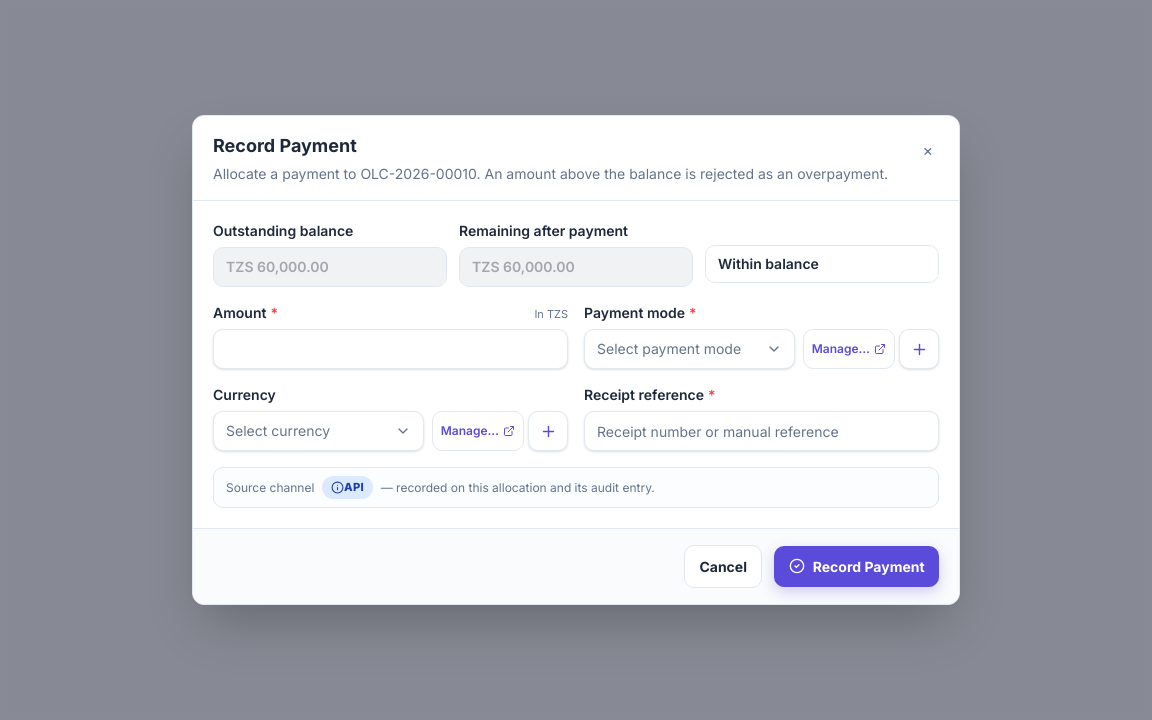
RecordPaymentModal › requires an exchange rate for a cross-currency payment
Click the button labelled "Select currency".
click(318, 431)  # box [213,411,424,451]
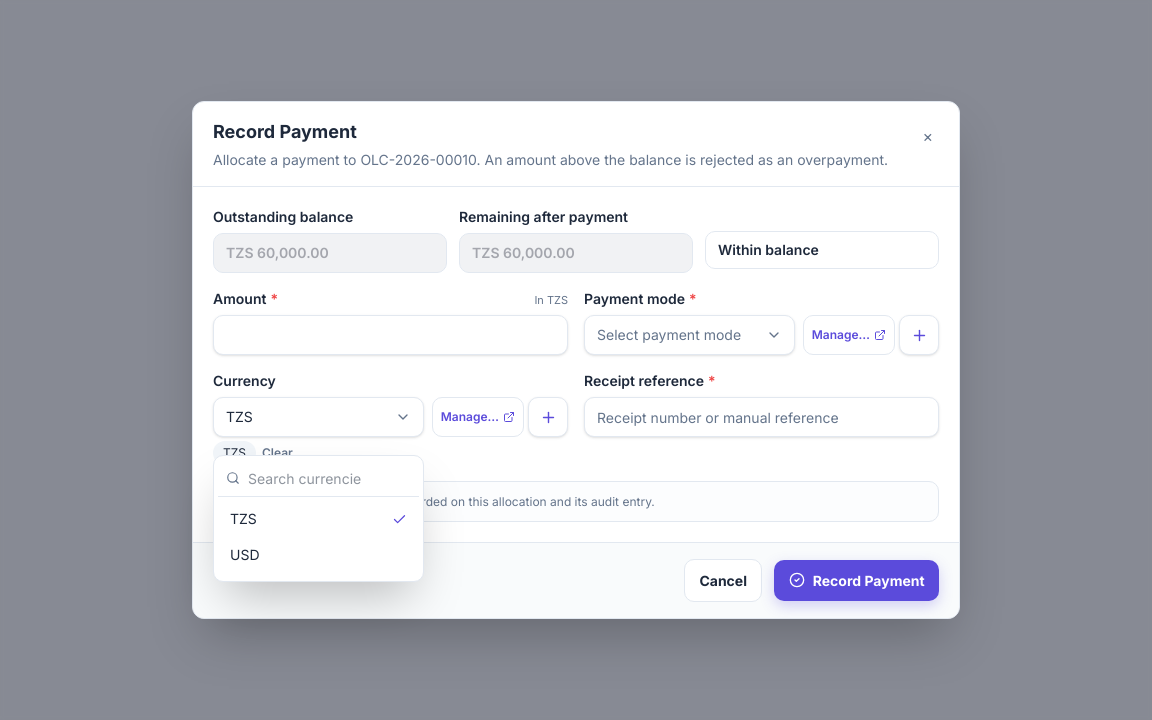
Click the option "USD".
click(318, 555)  # box [218,537,419,573]
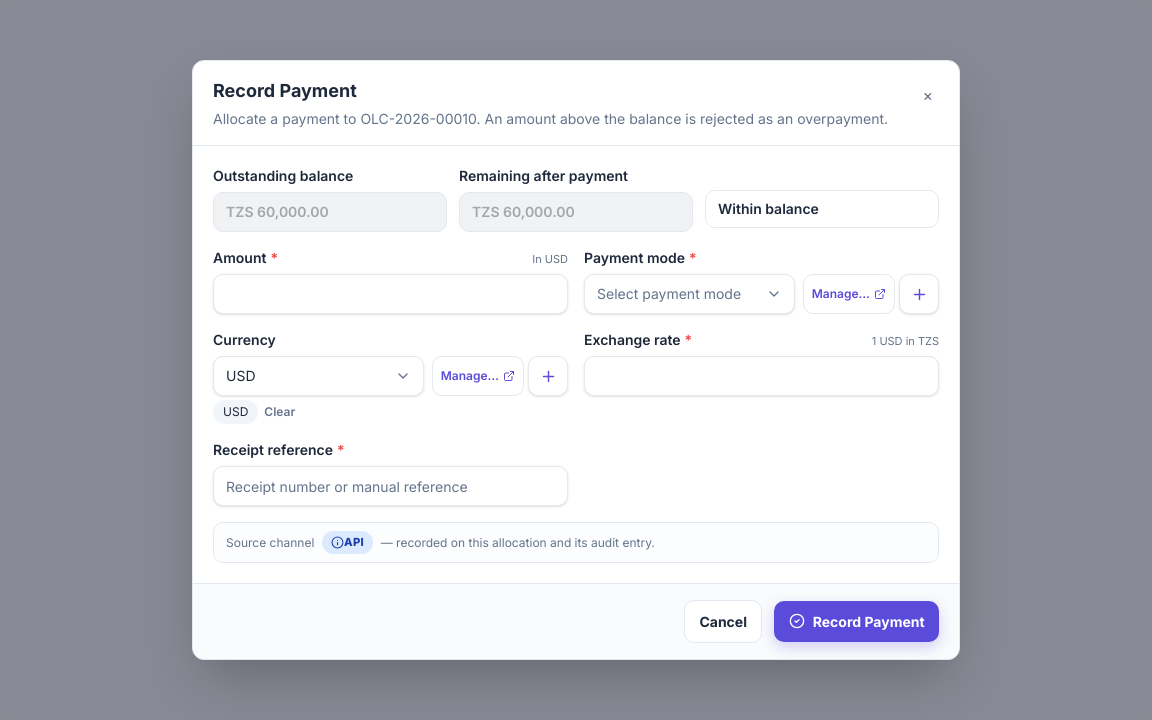
Now the number field with test id "exchange-rate-field" is shown, box [584,356,939,396]
Type "10000" into the number field labelled "Amount*".
click(390, 294); type("10000")  # box [213,274,568,314]
Type "RCT-2026-999" into the field labelled "Receipt reference*".
click(390, 486); type("RCT-2026-999")  # box [213,466,568,506]
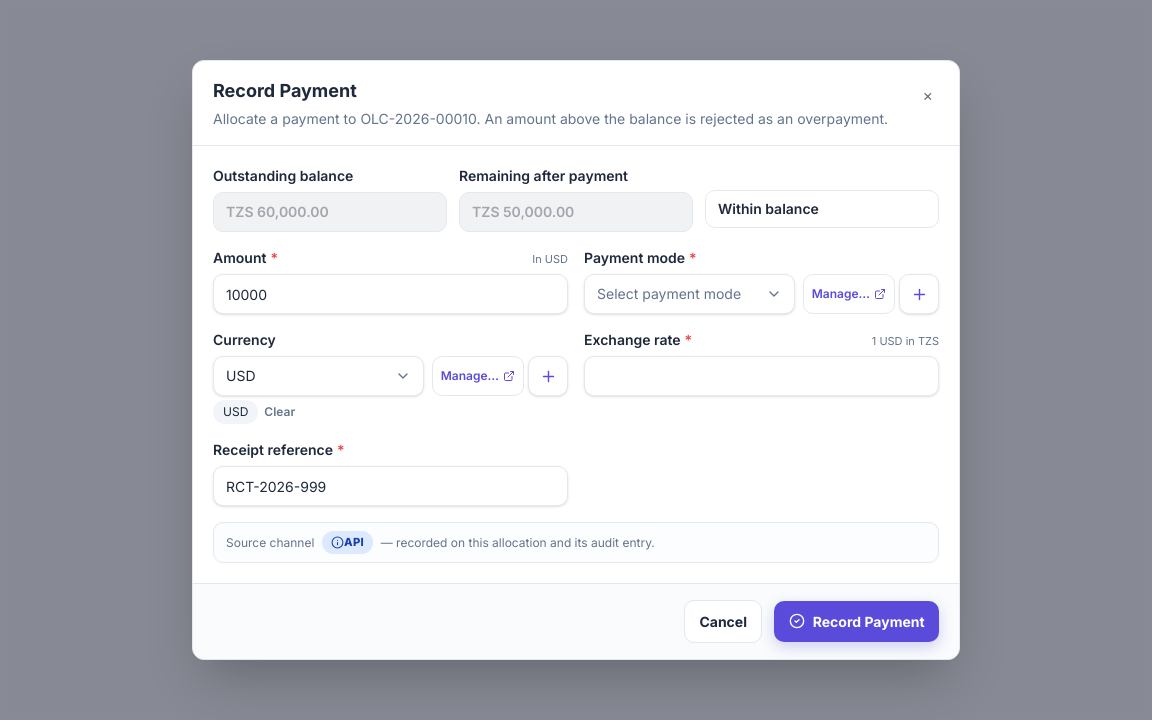
Click the button labelled "Select payment mode".
click(689, 294)  # box [584,274,795,314]
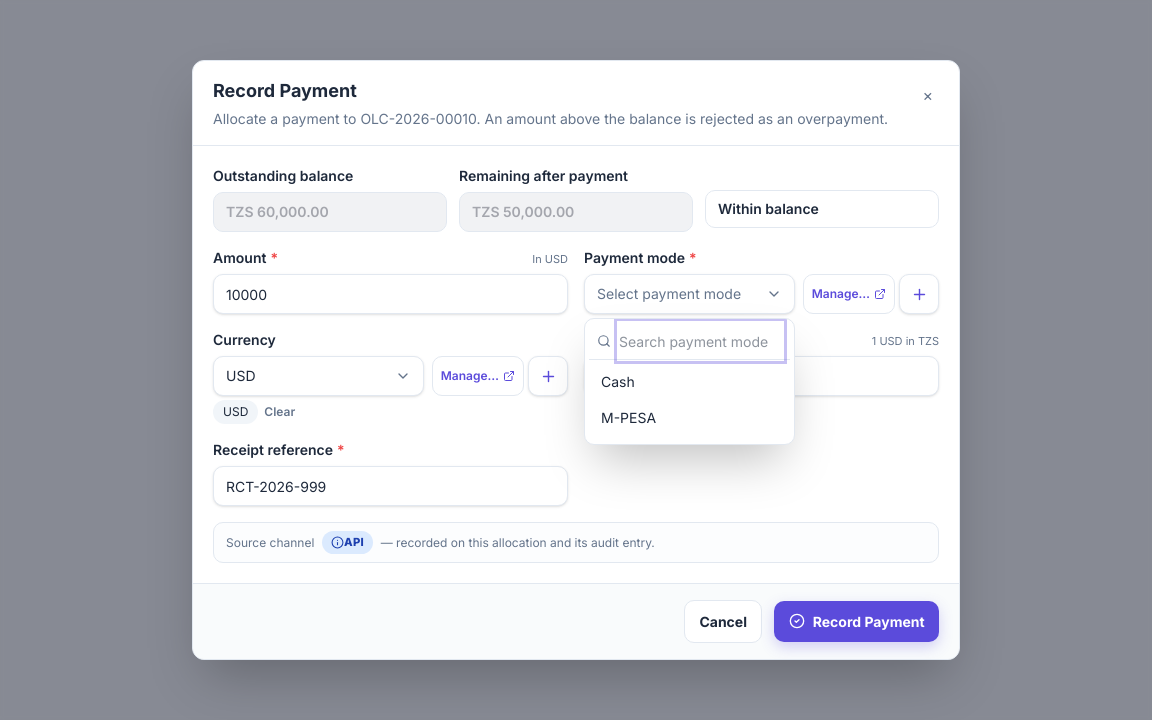
Click the option "Cash".
click(689, 382)  # box [589,364,790,400]
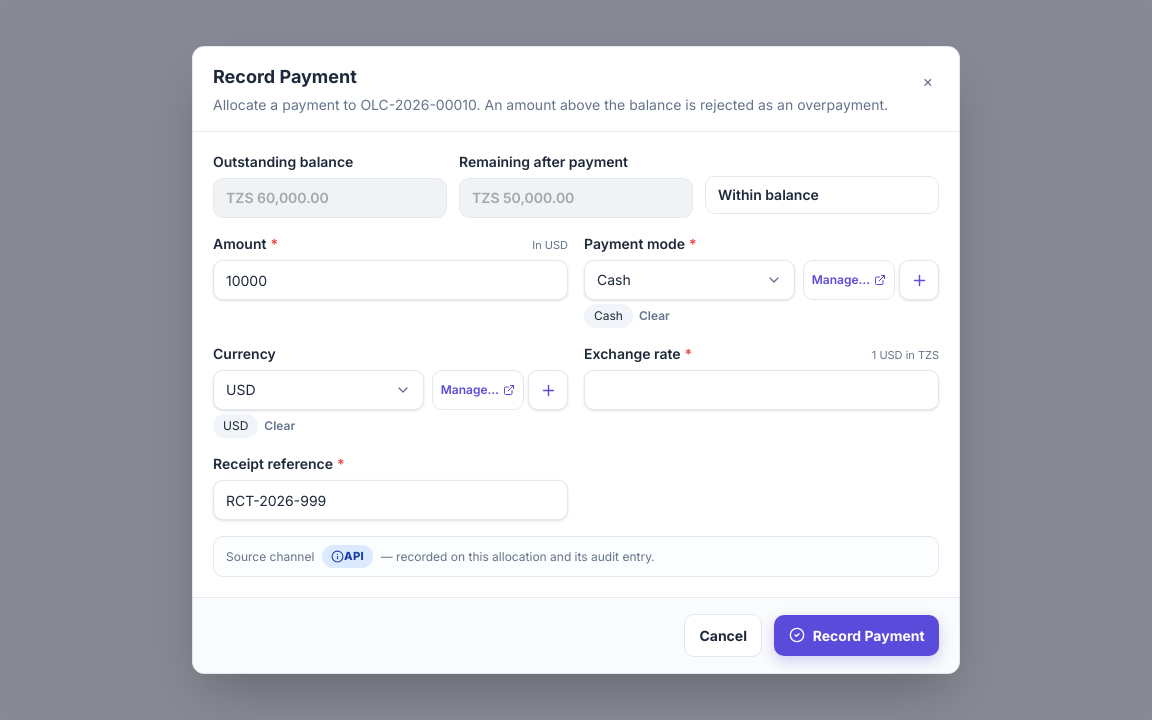
Click the button with test id "record-payment-submit".
click(857, 636)  # box [774,615,939,656]
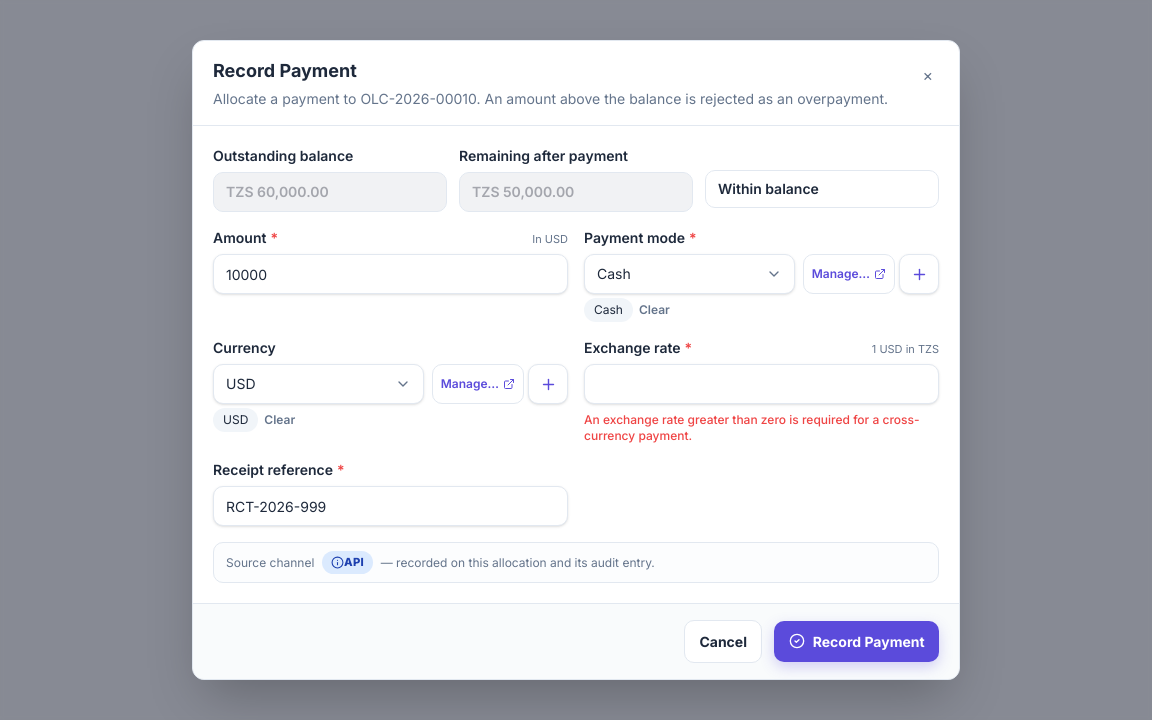
Now the text "An exchange rate greater than zero is required for a cross-currency payment." is shown, box [584,412,939,444]
